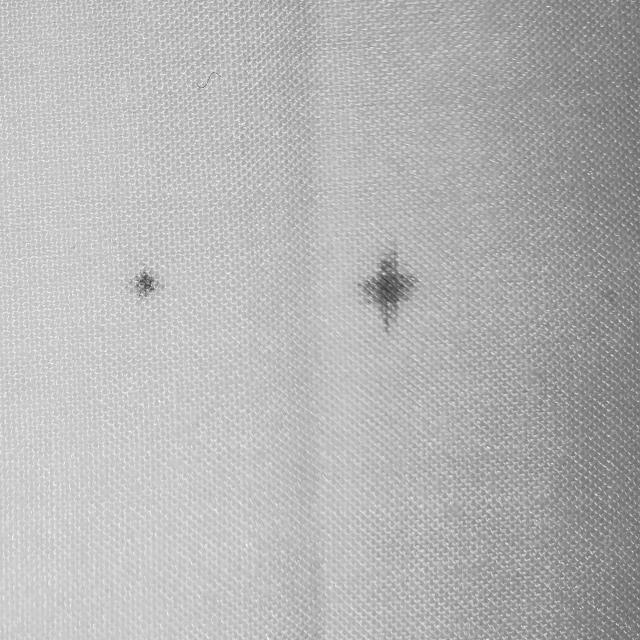Stain: (358, 249, 419, 332), (129, 269, 163, 297)
